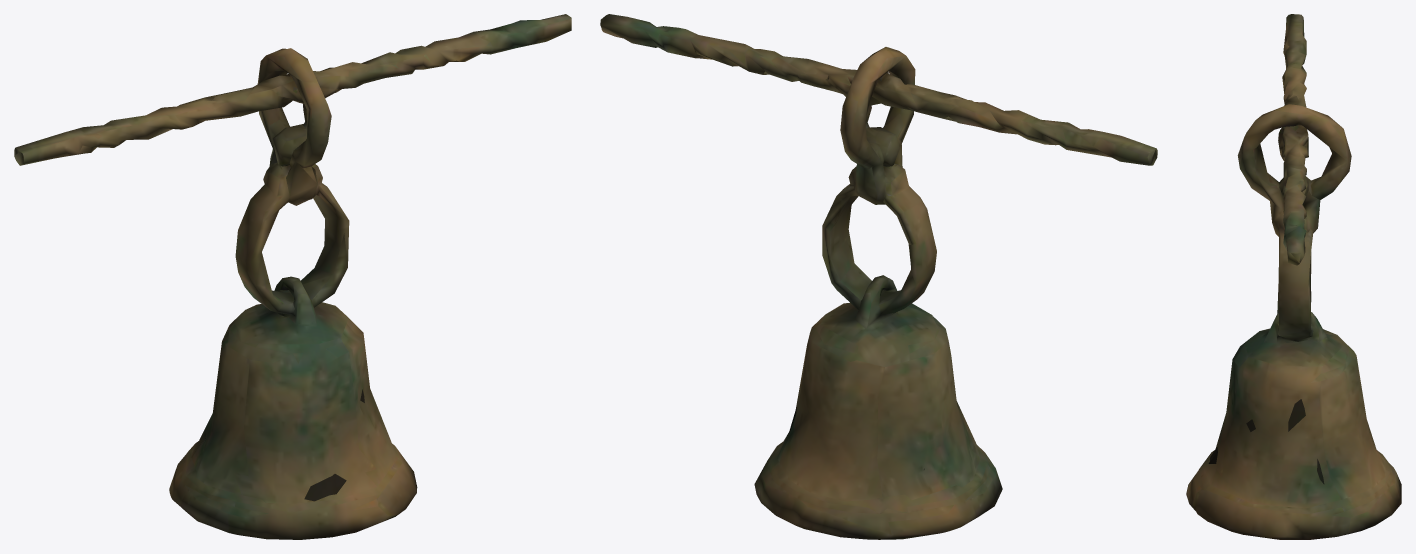
File: rustic-bronze-bell-v001.glb
3 renders of one model, left to right at view 1: azimuth 30°, elevation 25°; view 2: azimuth 150°, elevation 25°; view 3: azimuth 270°, elevation 25°, orthographic. The views are drawn at different scales.
Visible parts, largest first — view 1: rustic-bronze-bell; view 2: rustic-bronze-bell; view 3: rustic-bronze-bell.
Boxes of the visible parts, x1,y1,x2,y2 form: rustic-bronze-bell: [14, 14, 571, 539]; rustic-bronze-bell: [600, 14, 1157, 539]; rustic-bronze-bell: [1186, 14, 1401, 539].
Size of the model in its own units: 1.8 by 1.37 by 0.687.
1 material, 1 textured.
